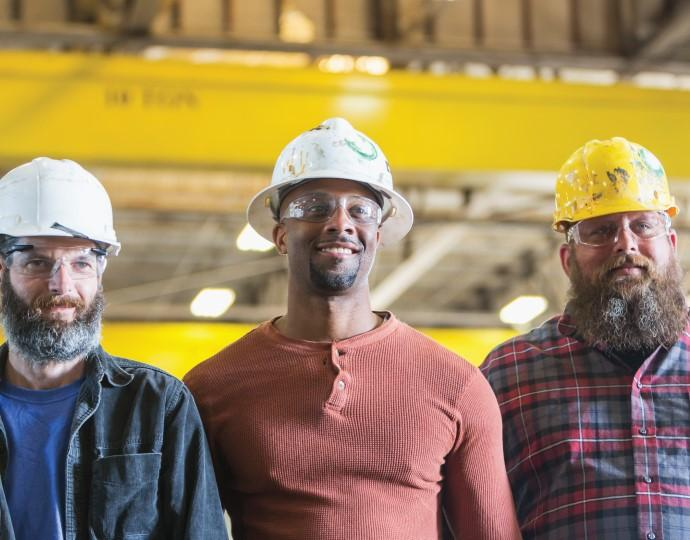helmet: (556, 139, 679, 224), (1, 159, 116, 249), (271, 118, 399, 198)
